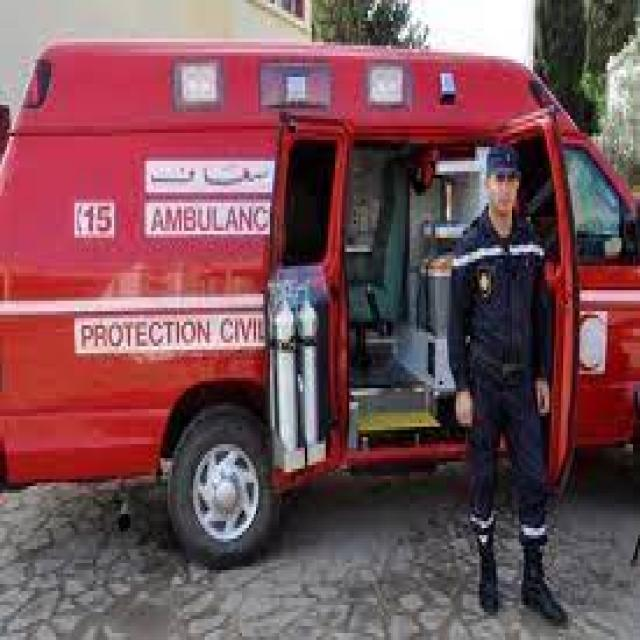ambulance: (6, 45, 636, 555)
